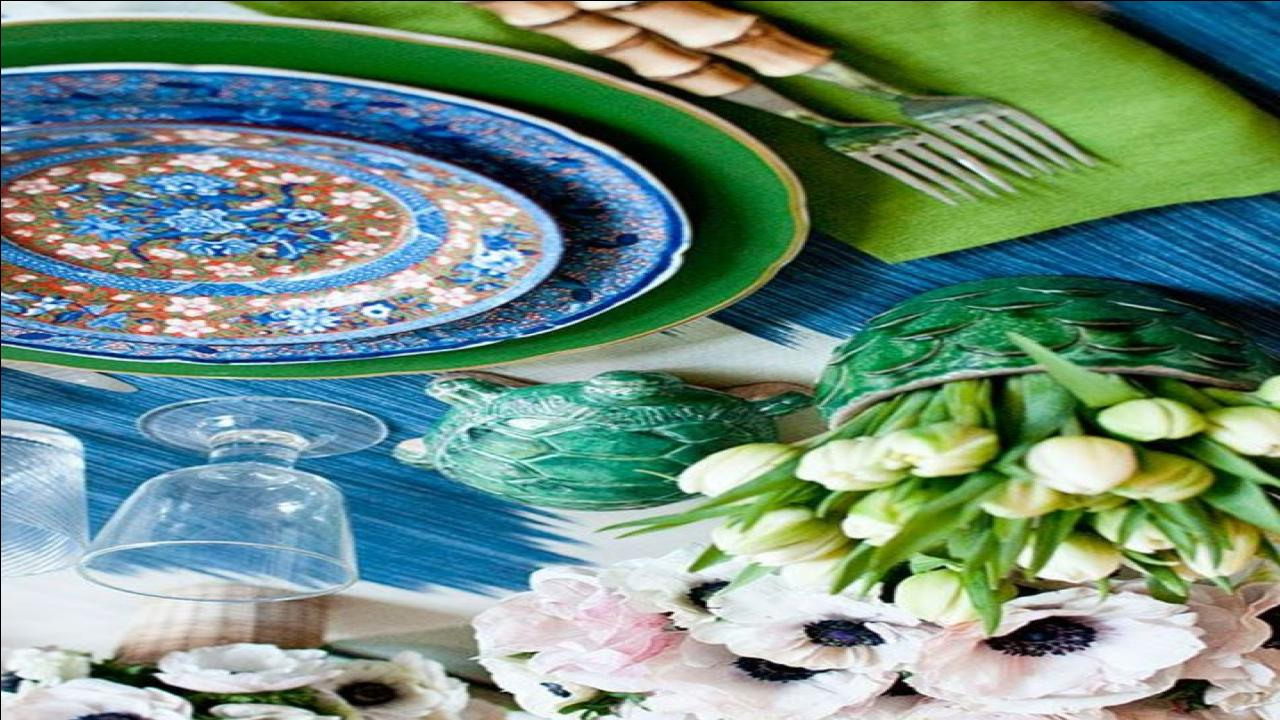fork: (470, 0, 1033, 209), (574, 0, 1102, 178)
